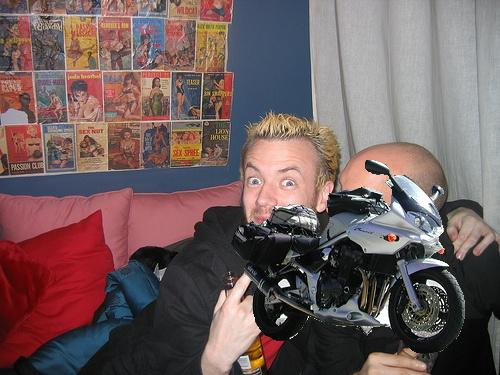tampered: (232, 161, 465, 353)
